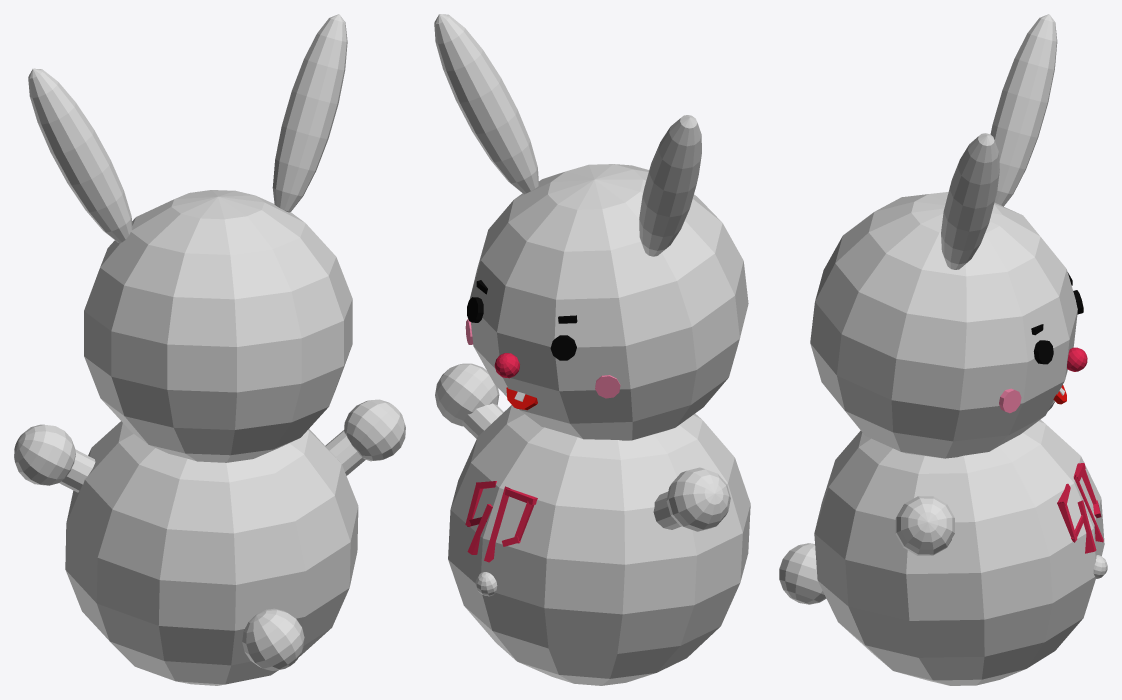
File: poly_pizza_rabbit_low.obj
The picture shows the model from 3 angles, left to right: view 1: azimuth 30°, elevation 25°; view 2: azimuth 150°, elevation 25°; view 3: azimuth 270°, elevation 25°; orthographic projection. The views are drawn at different scales.
Parts seen in each view (by area): view 1: mesh2127734581, mesh2065478825, mesh390267416, mesh1798745168, mesh170722107, mesh569847859, mesh1709833689, mesh624768528, mesh1702239461; view 2: mesh2065478825, mesh2127734581, mesh390267416, mesh1798745168, mesh569847859, mesh1709833689, mesh624768528, mesh1702239461, mesh1593589497, mesh1176069074, mesh1462030203; view 3: mesh2065478825, mesh2127734581, mesh1798745168, mesh390267416, mesh1709833689, mesh170722107.
Part boxes in pixels (bbox=[...]): mesh2127734581: bbox=[84, 190, 352, 462]; mesh2065478825: bbox=[65, 421, 358, 685]; mesh390267416: bbox=[272, 14, 347, 212]; mesh1798745168: bbox=[28, 68, 132, 243]; mesh170722107: bbox=[242, 608, 304, 670]; mesh569847859: bbox=[14, 424, 75, 485]; mesh1709833689: bbox=[344, 399, 405, 461]; mesh624768528: bbox=[325, 430, 365, 475]; mesh1702239461: bbox=[59, 449, 95, 492]; mesh2065478825: bbox=[448, 405, 750, 685]; mesh2127734581: bbox=[469, 164, 748, 440]; mesh390267416: bbox=[434, 14, 538, 194]; mesh1798745168: bbox=[639, 115, 701, 256]; mesh569847859: bbox=[666, 467, 730, 531]; mesh1709833689: bbox=[435, 363, 499, 426]; mesh624768528: bbox=[462, 403, 503, 438]; mesh1702239461: bbox=[653, 491, 681, 529]; mesh1593589497: bbox=[484, 486, 510, 562]; mesh1176069074: bbox=[550, 335, 576, 360]; mesh1462030203: bbox=[494, 353, 519, 378]; mesh2065478825: bbox=[814, 419, 1104, 685]; mesh2127734581: bbox=[810, 192, 1077, 458]; mesh1798745168: bbox=[990, 14, 1057, 206]; mesh390267416: bbox=[941, 133, 999, 269]; mesh1709833689: bbox=[895, 496, 954, 555]; mesh170722107: bbox=[779, 543, 826, 604].
Bounding box in the file's own units: 0.3056 × 0.5416 × 0.2664.
